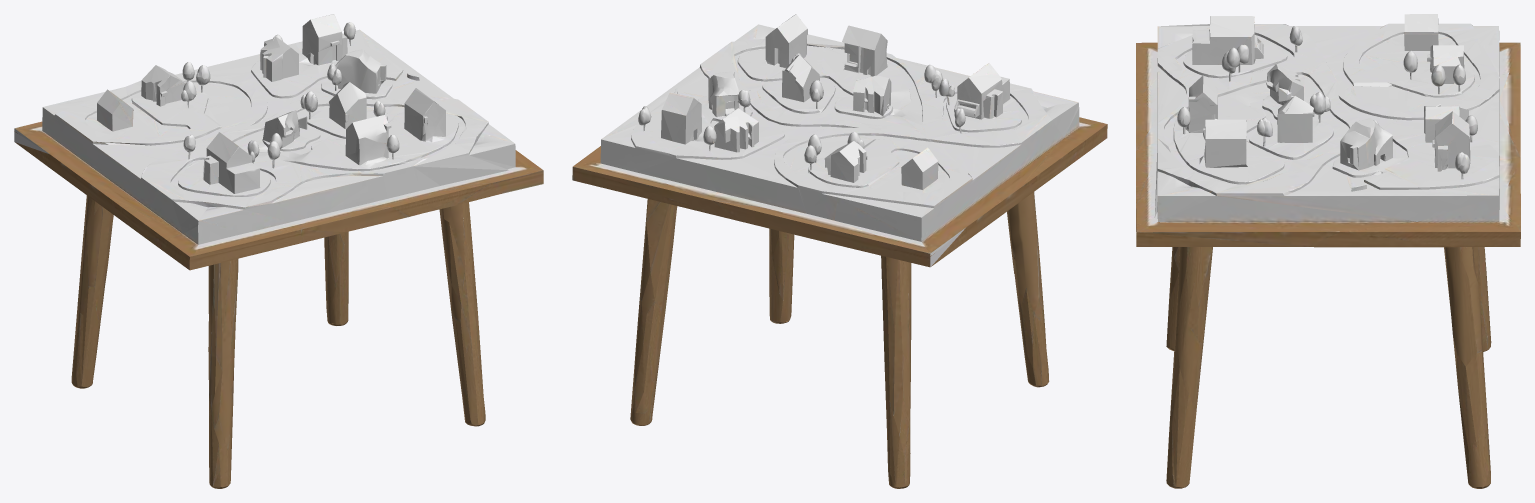
File: architectural_model_table.glb
3 renders of one model, left to right at view 1: azimuth 30°, elevation 25°; view 2: azimuth 150°, elevation 25°; view 3: azimuth 270°, elevation 25°, orthographic. The views are drawn at different scales.
Parts seen in each view (by area): view 1: Mesh_0; view 2: Mesh_0; view 3: Mesh_0.
Boxes of the visible parts, bbox=[...] form: Mesh_0: bbox=[14, 14, 543, 488]; Mesh_0: bbox=[572, 14, 1107, 488]; Mesh_0: bbox=[1136, 14, 1520, 488].
Size of the model in its own units: 1.38 by 1.2 by 1.18.
Materials: 1 (1 with a texture image).
